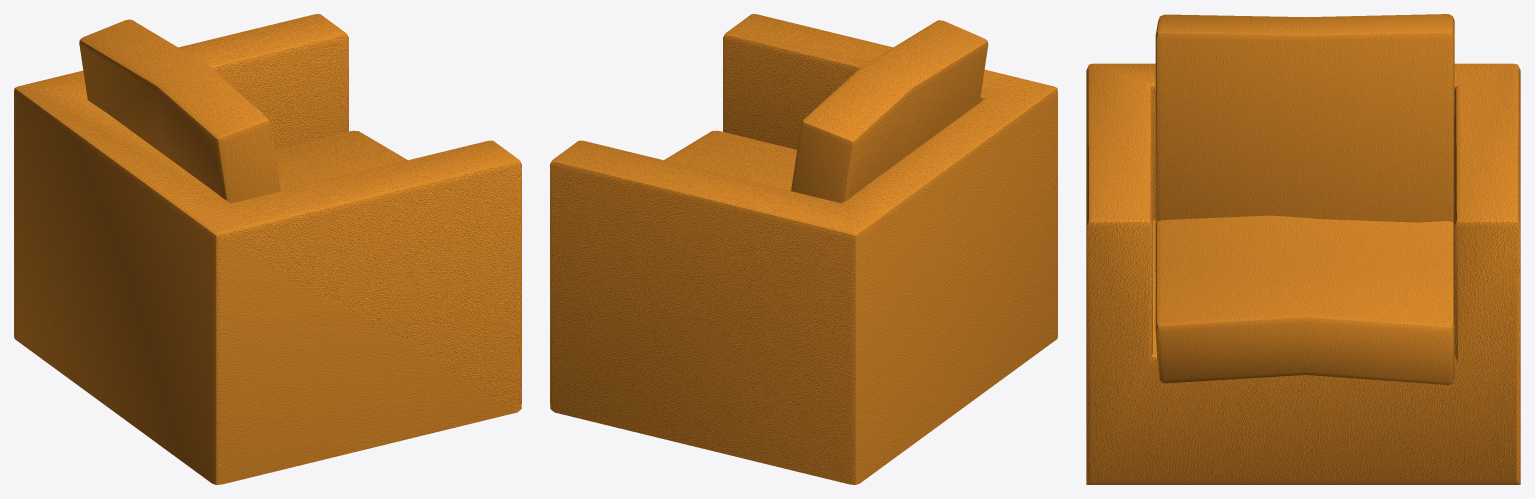
Rendered from couch.fbx.
3 views of the same model, side by side, from view 1: azimuth 30°, elevation 25°; view 2: azimuth 150°, elevation 25°; view 3: azimuth 270°, elevation 25° (orthographic). The views are drawn at different scales.
Parts seen in each view (by area): view 1: couch; view 2: couch; view 3: couch.
Boxes of the visible parts, x1,y1,x2,y2 form: couch: (14, 14, 521, 484); couch: (550, 14, 1057, 484); couch: (1086, 14, 1520, 484).
Size of the model in its own units: 1.12 by 1.1 by 1.26.
